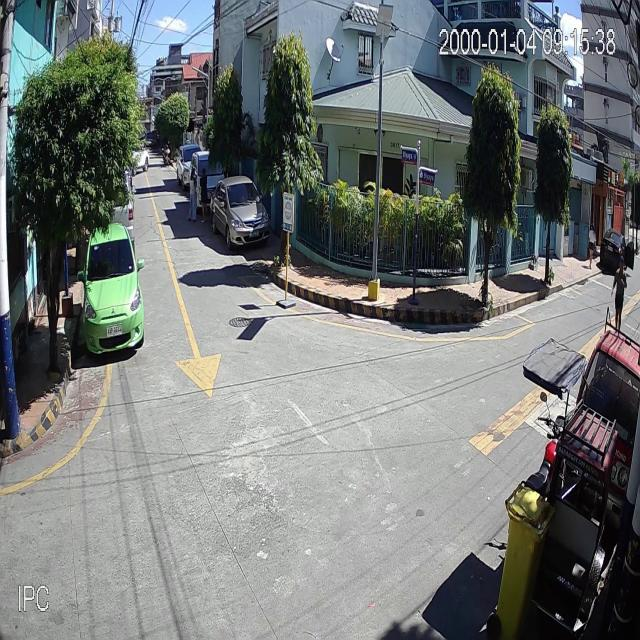walking: (612, 255, 627, 332), (588, 223, 596, 270)
